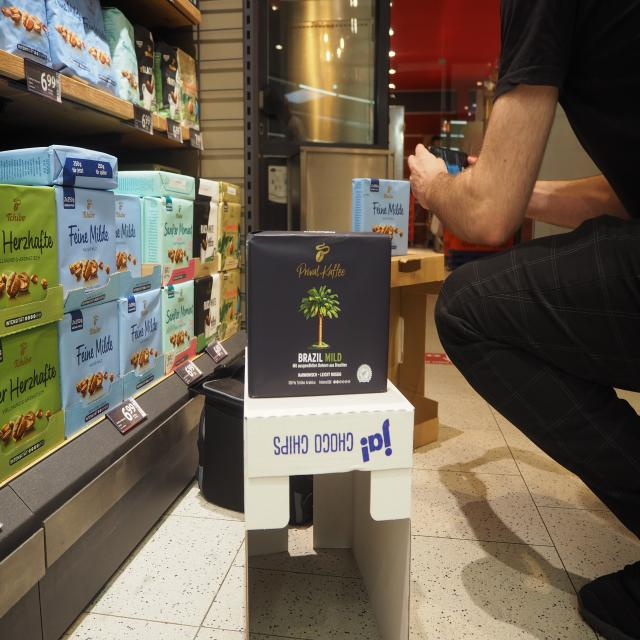BM Gemahlen: (245, 228, 394, 401)
